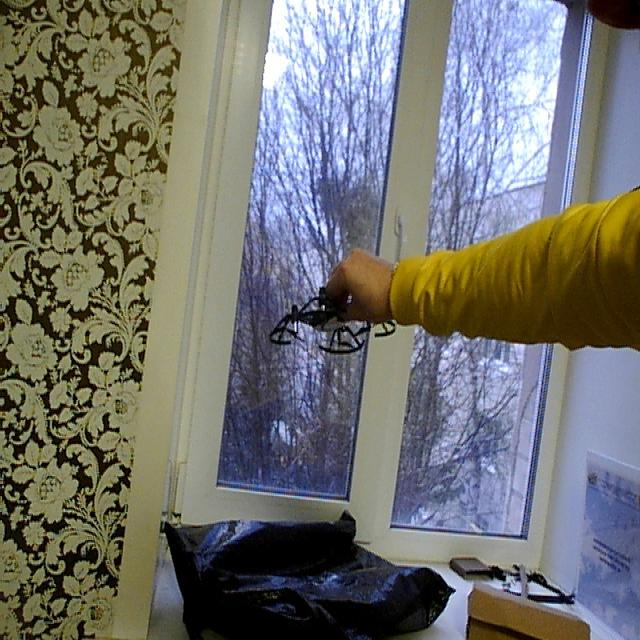drone: (262, 274, 404, 365)
